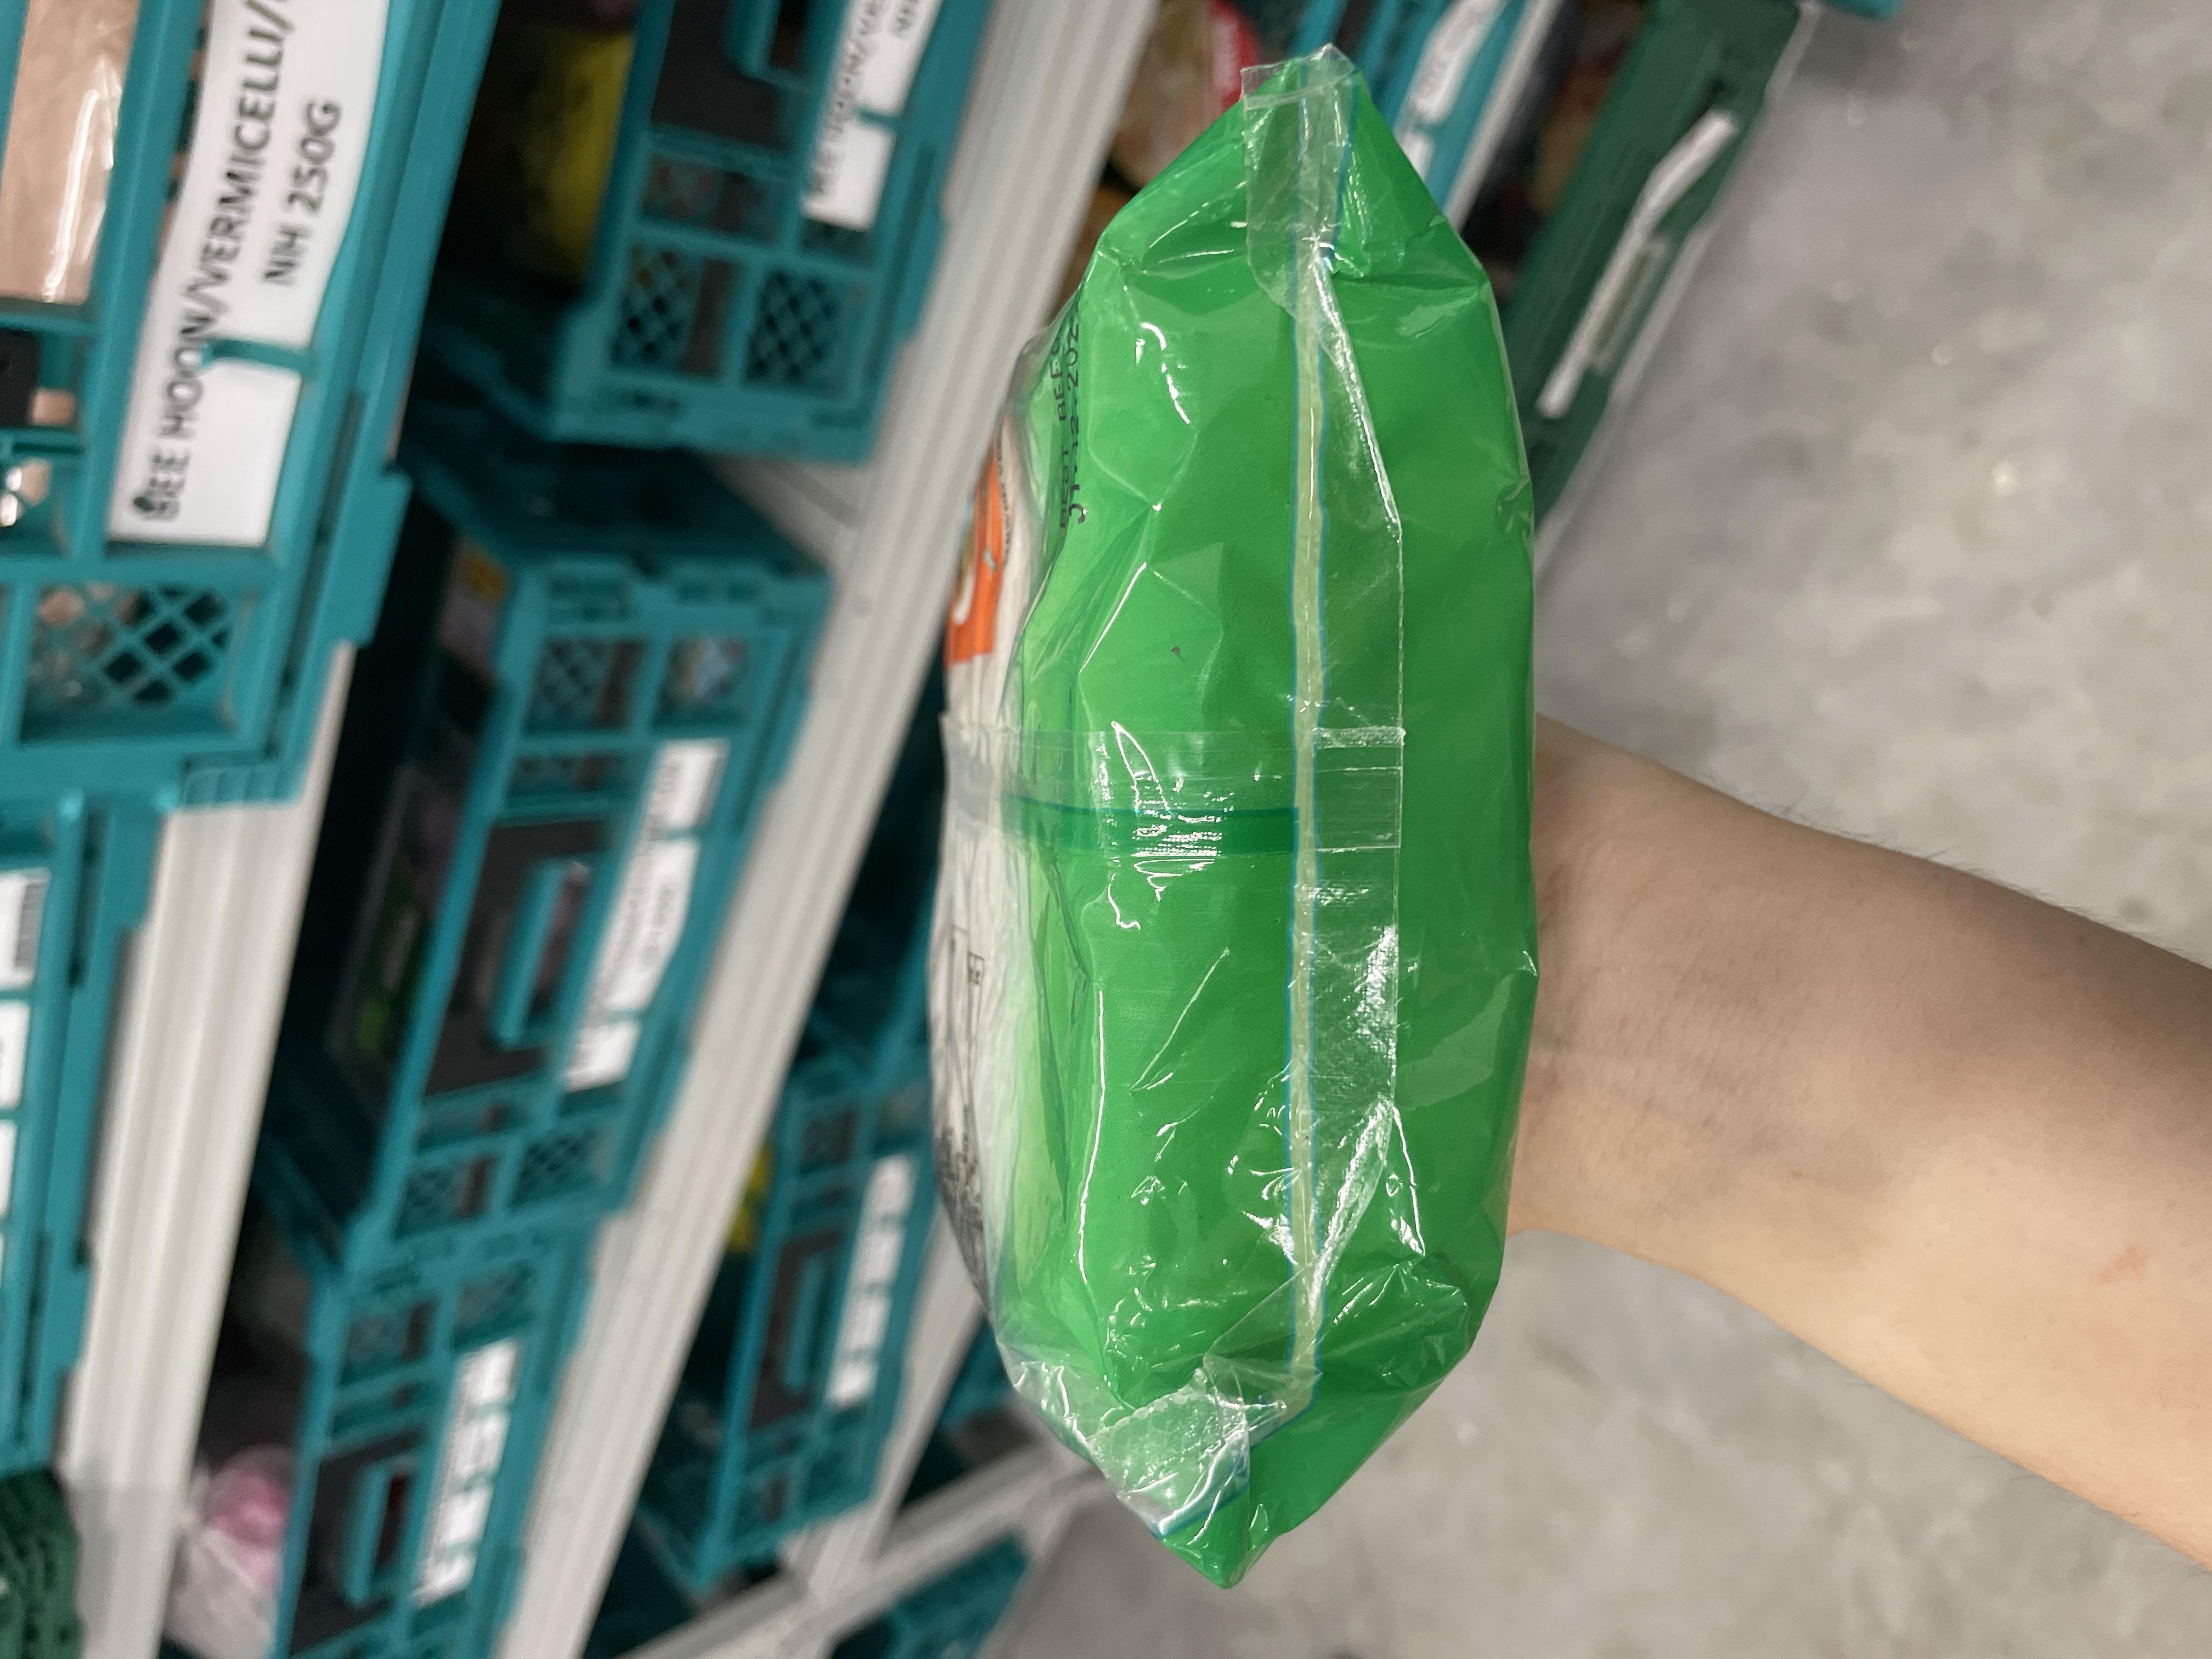object_name: (219, 1032, 1360, 1476)
